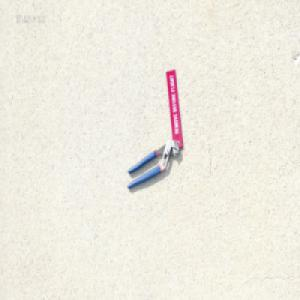Label: (164, 66, 183, 148)
Pliers: (126, 138, 179, 190)
